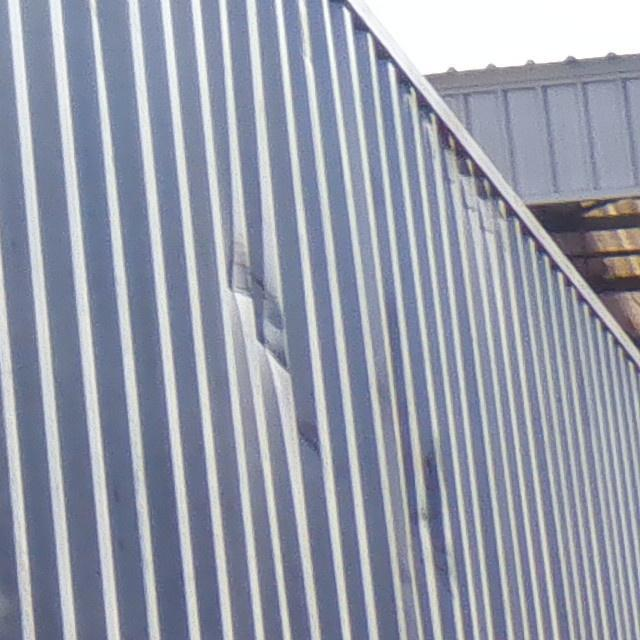dent: (216, 228, 302, 405)
